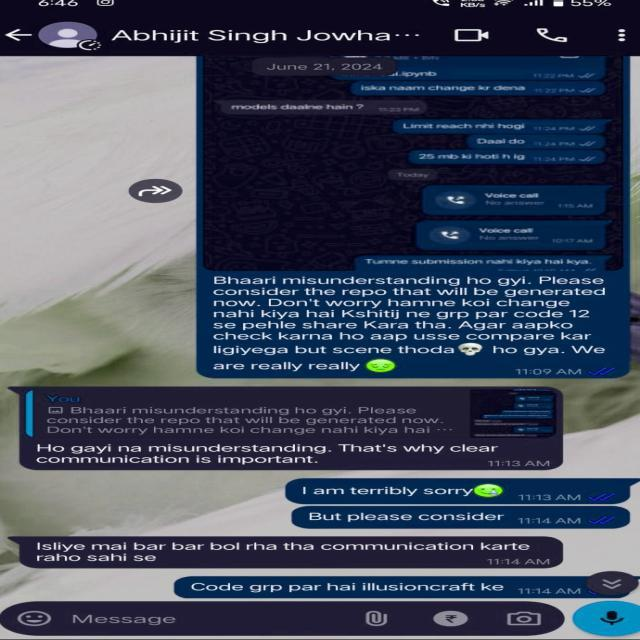scam: (24, 436, 524, 470), (30, 537, 548, 566)
